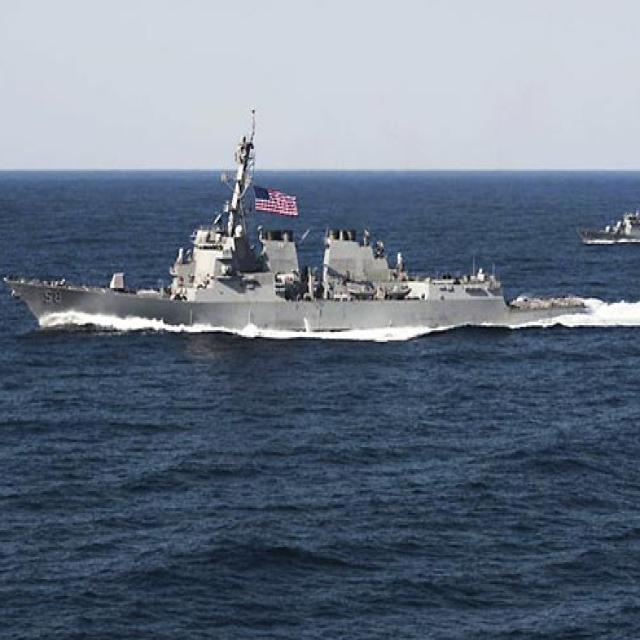navalvessels: (0, 115, 592, 356)
